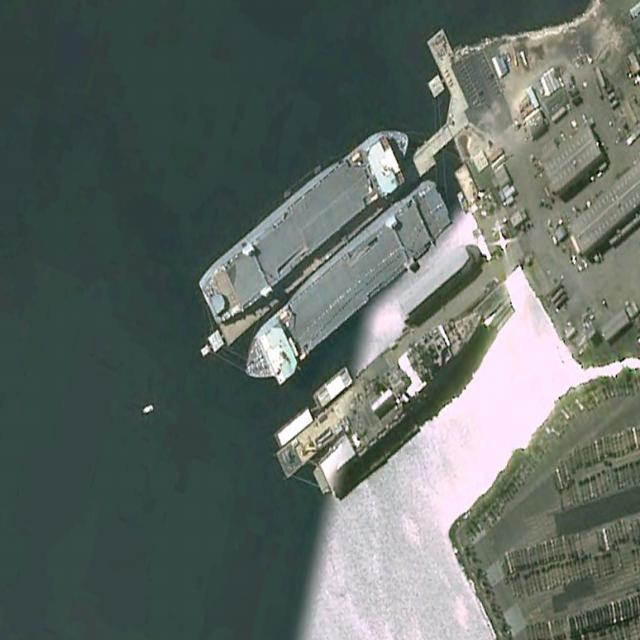Cargo: (231, 170, 458, 404), (194, 108, 421, 334)
